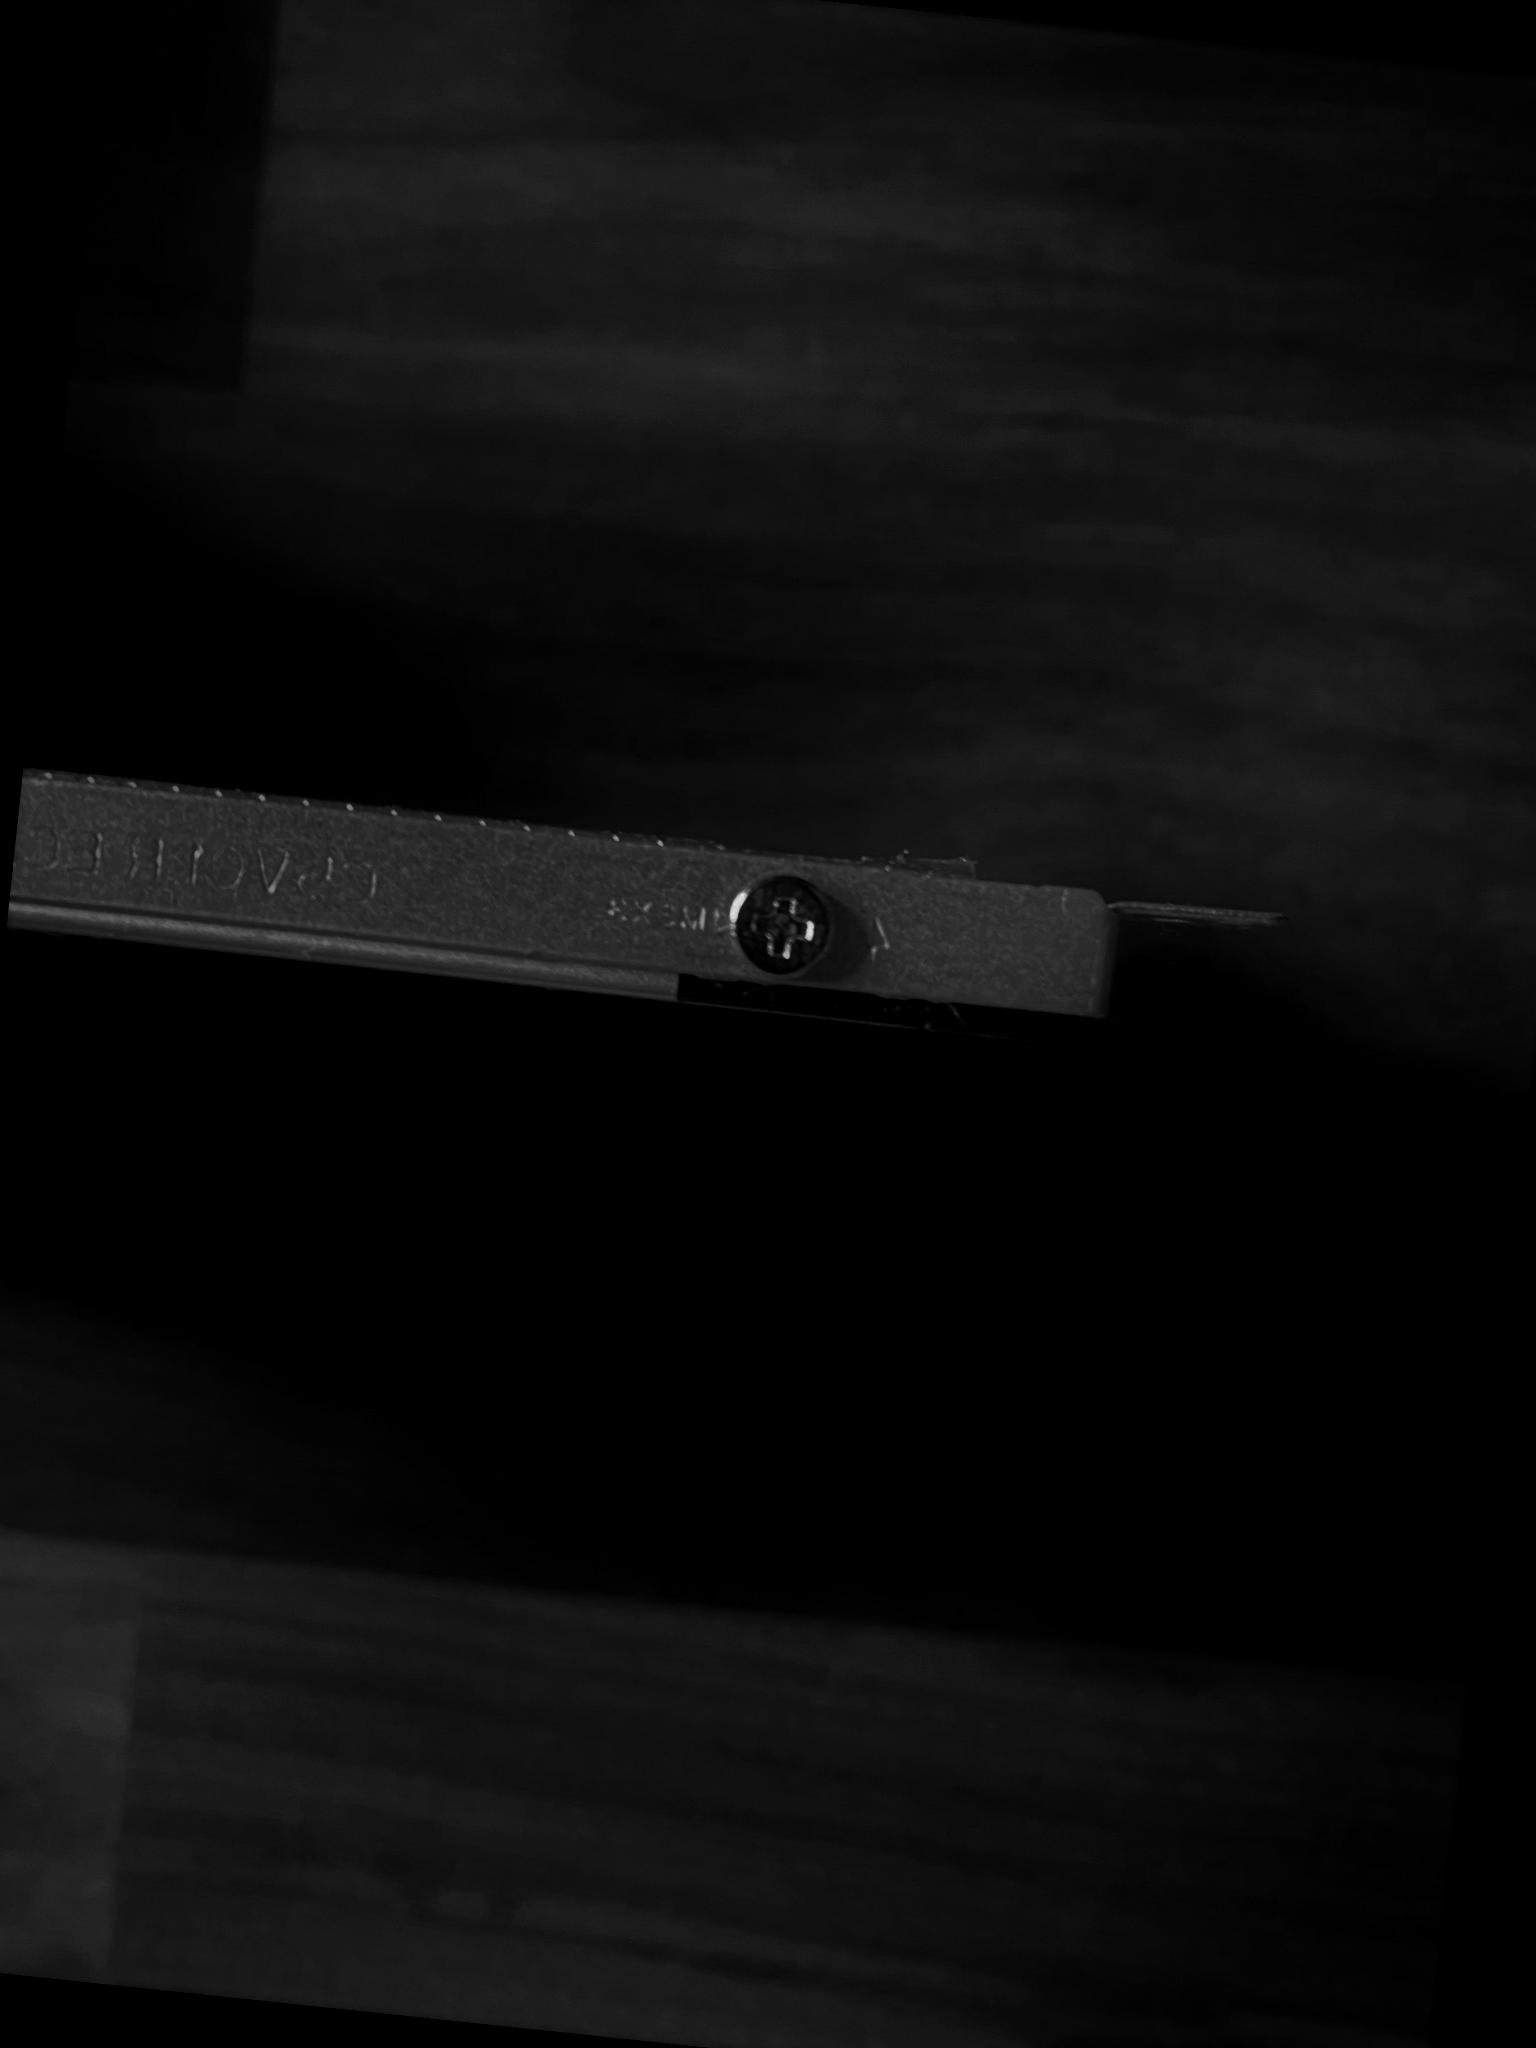screw: (723, 868, 837, 985)
